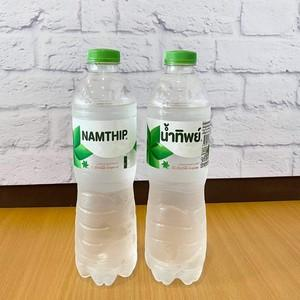bottle: (140, 44, 218, 290), (68, 44, 142, 290)
